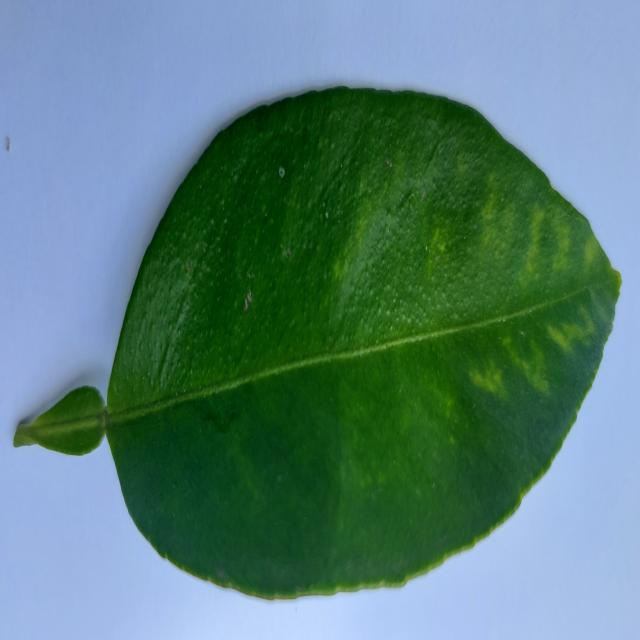greening: (16, 88, 620, 598)
